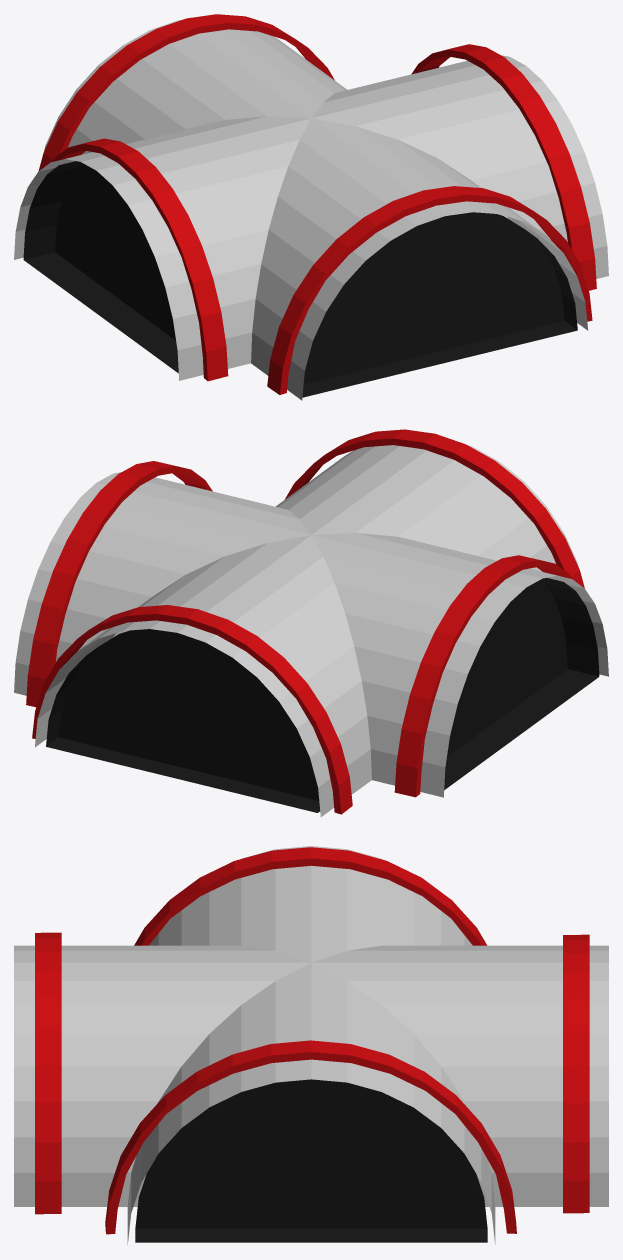
Rendered from icehouse.obj.
3 views of the same model, one above another, from view 1: azimuth 30°, elevation 25°; view 2: azimuth 150°, elevation 25°; view 3: azimuth 270°, elevation 25° (orthographic). The views are drawn at different scales.
Parts seen in each view (by area): view 1: Cylinder, Circle.003, Circle, Circle.007, Circle.004, Circle.005, Circle.006; view 2: Cylinder, Circle.002, Circle, Circle.006, Circle.004, Circle.005, Circle.007; view 3: Cylinder, Circle.001, Circle.004, Circle.007, Circle.006, Circle.005.
Boxes of the visible parts, x1,y1,x2,y2 form: Cylinder: (14,20,608,400); Circle.003: (302,212,577,397); Circle: (23,161,178,373); Circle.007: (267,186,592,394); Circle.004: (411,44,596,290); Circle.005: (52,138,228,381); Circle.006: (38,14,334,171); Cylinder: (14,445,608,816); Circle.002: (46,629,320,812); Circle: (444,578,599,789); Circle.006: (32,605,352,814); Circle.004: (26,461,212,707); Circle.005: (394,555,571,797); Circle.007: (285,429,584,588); Cylinder: (14,846,608,1244); Circle.001: (135,1079,487,1242); Circle.004: (105,1040,516,1234); Circle.007: (35,932,61,1214); Circle.006: (563,934,589,1213); Circle.005: (134,847,487,945).
Bounding box in the file's own units: 3 × 1.1 × 3.24.
